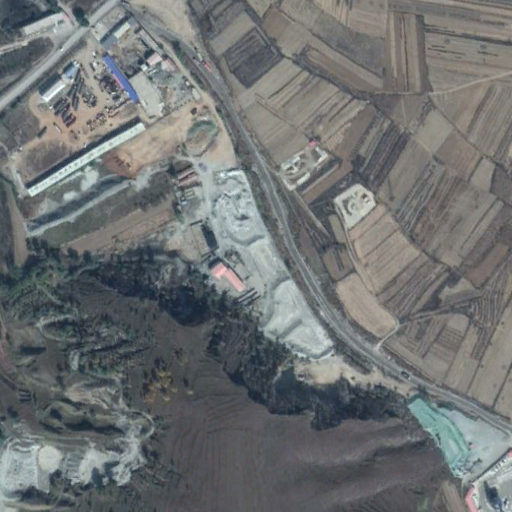tp: (213, 171, 334, 361)
